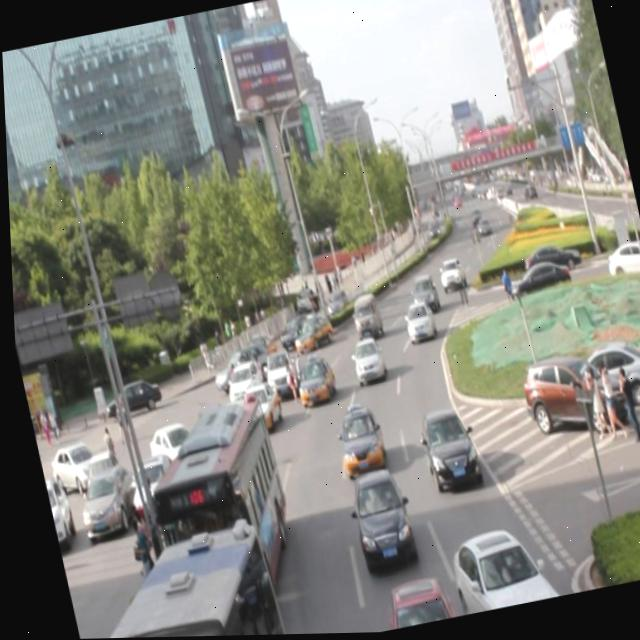car: (442, 524, 556, 617), (341, 469, 412, 569), (412, 405, 478, 497), (373, 574, 451, 631), (329, 405, 383, 477), (207, 343, 275, 399), (191, 399, 240, 462), (229, 378, 284, 434), (285, 347, 334, 406), (255, 341, 297, 396), (285, 305, 333, 353), (219, 362, 264, 409), (345, 339, 383, 389), (398, 303, 433, 347), (405, 276, 436, 317), (432, 259, 465, 295)
truck: (344, 293, 381, 343)
van: (132, 398, 296, 600), (55, 521, 277, 639)
